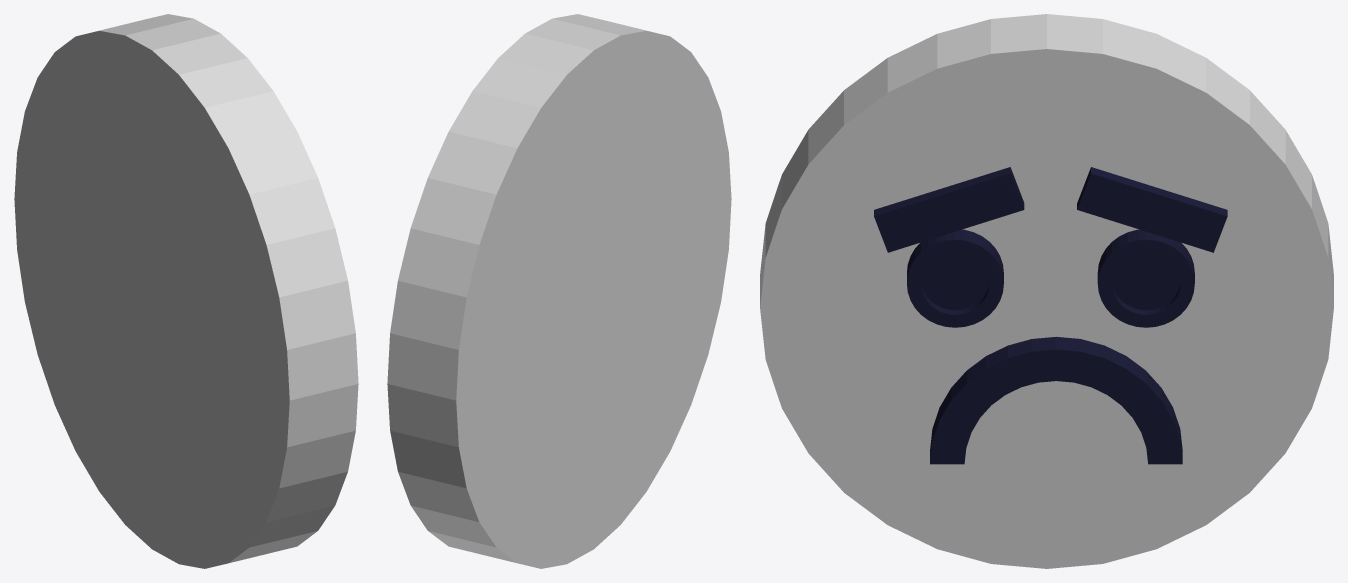
Rendered from boton Sadness.fbx.
The picture shows the model from 3 angles, left to right: view 1: azimuth 30°, elevation 25°; view 2: azimuth 150°, elevation 25°; view 3: azimuth 270°, elevation 25°; orthographic projection. The views are drawn at different scales.
Parts seen in each view (by area): view 1: Circle.003; view 2: Circle.003; view 3: Circle.003, Cylinder.011, Cube.039, Cube.038, Cube.037.
Part boxes in pixels (x1,y1,x2,y2): Circle.003: [14, 14, 358, 568]; Circle.003: [387, 14, 731, 568]; Circle.003: [760, 14, 1333, 568]; Cylinder.011: [930, 336, 1182, 464]; Cube.039: [874, 167, 1227, 252]; Cube.038: [1097, 229, 1194, 327]; Cube.037: [907, 229, 1003, 327].
Bounding box in the file's own units: 19.74 × 100 × 100.
